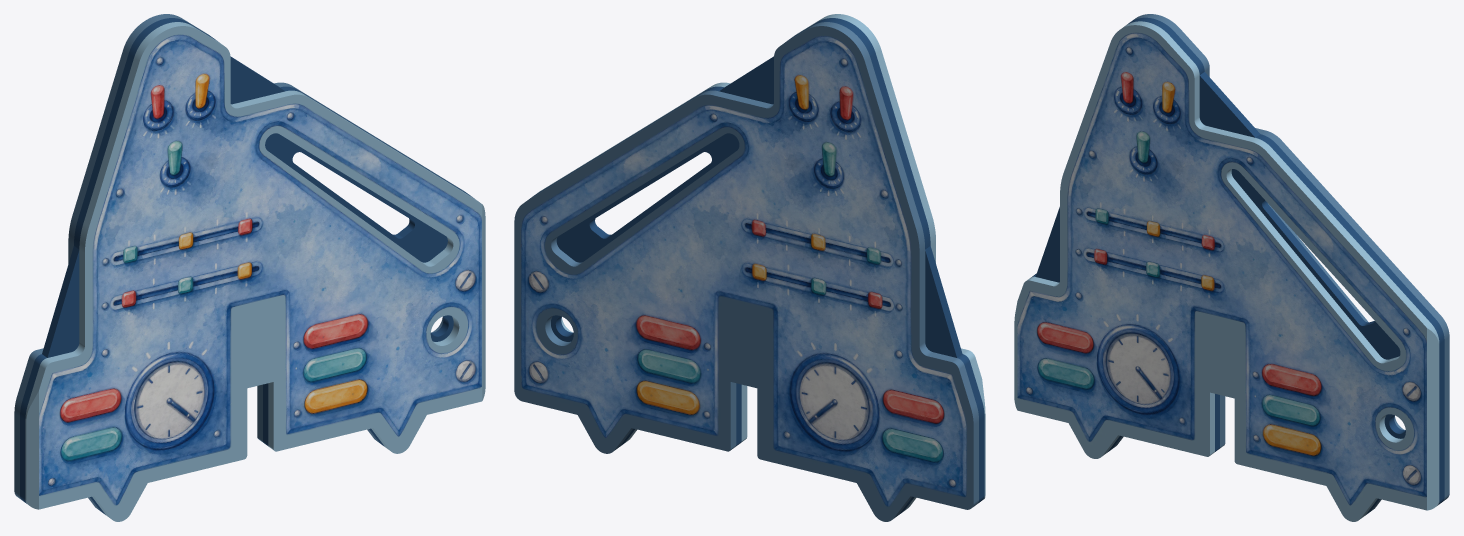
File: narrow-1-top.glb
3 renders of one model, left to right at view 1: azimuth 30°, elevation 25°; view 2: azimuth 150°, elevation 25°; view 3: azimuth 330°, elevation 25°, orthographic. The views are drawn at different scales.
Visible parts, largest first — view 1: narrow-1-top; view 2: narrow-1-top; view 3: narrow-1-top.
Boxes of the visible parts, bbox=[...] form: narrow-1-top: bbox=[14, 14, 485, 521]; narrow-1-top: bbox=[514, 14, 985, 521]; narrow-1-top: bbox=[1014, 14, 1449, 521].
Size of the model in its own units: 580 by 581 by 36.
5 materials, 2 textured.
